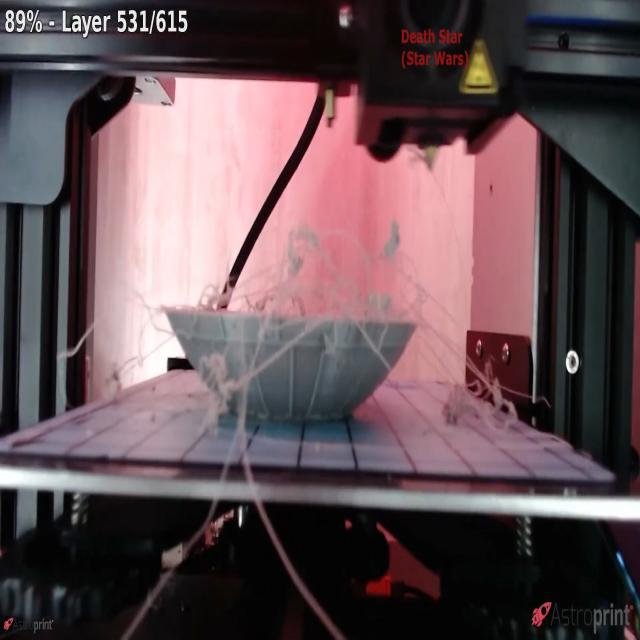spaghetti: (86, 187, 532, 486)
